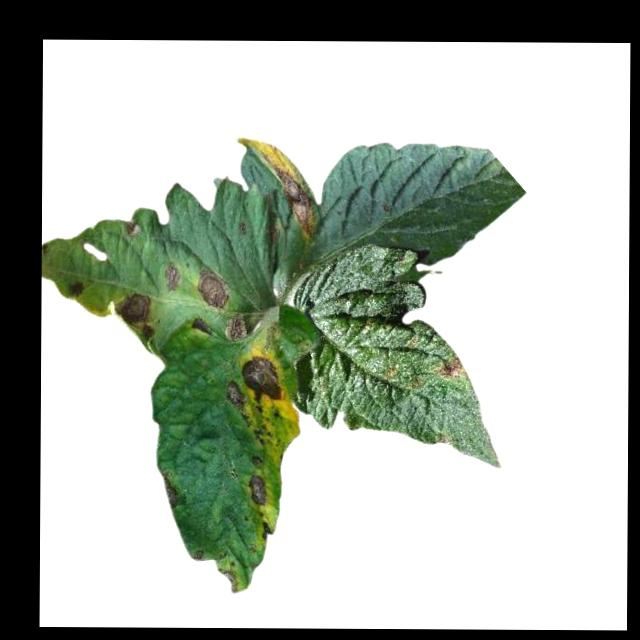Early_blight: (232, 136, 318, 239), (222, 351, 285, 408), (189, 264, 232, 311), (111, 287, 152, 331), (158, 467, 180, 512), (245, 472, 272, 508), (219, 311, 248, 343), (435, 352, 464, 381), (215, 564, 238, 594), (162, 265, 181, 294), (63, 276, 83, 301), (121, 218, 141, 237), (259, 517, 272, 541)
